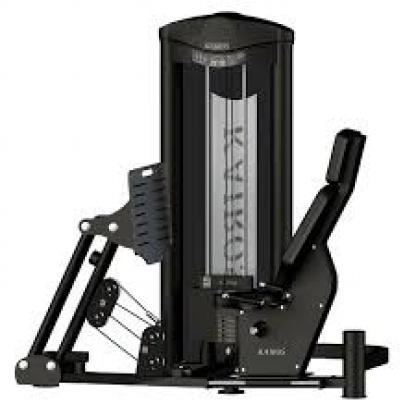leg press: (14, 11, 416, 409)
